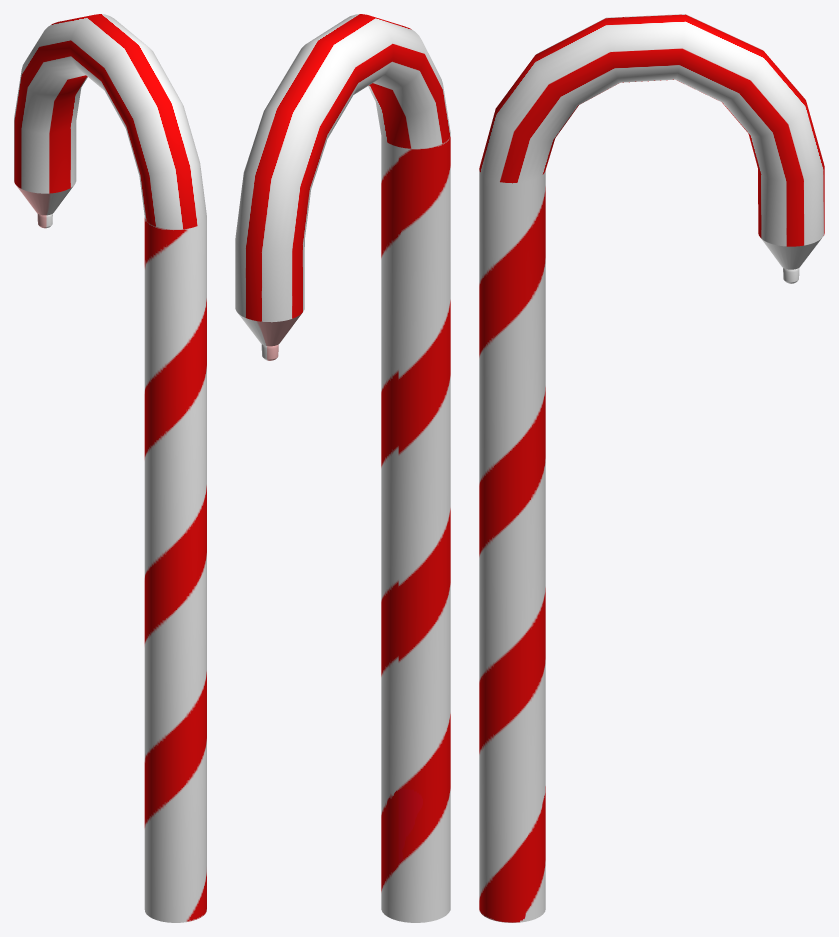
File: candycane.glb
3 views of the same model, side by side, from view 1: azimuth 30°, elevation 25°; view 2: azimuth 150°, elevation 25°; view 3: azimuth 270°, elevation 25° (orthographic). The views are drawn at different scales.
Parts seen in each view (by area): view 1: Cylinder; view 2: Cylinder; view 3: Cylinder.
Part boxes in pixels (x1=…): Cylinder: x1=14, y1=14, x2=206, y2=922; Cylinder: x1=235, y1=14, x2=450, y2=922; Cylinder: x1=479, y1=14, x2=824, y2=922.
Size of the model in its own units: 1.61 by 23.77 by 8.35.
1 material, 1 textured.
